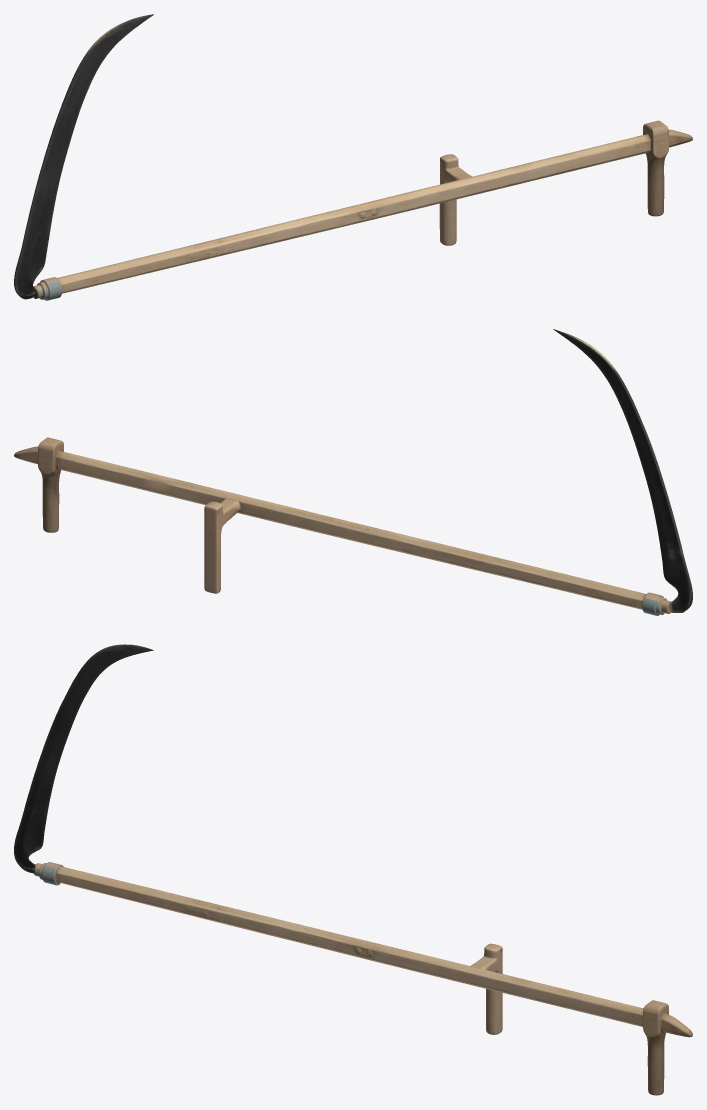
Rendered from kosa-2.glb.
3 views of the same model, one above another, from view 1: azimuth 30°, elevation 25°; view 2: azimuth 150°, elevation 25°; view 3: azimuth 330°, elevation 25° (orthographic).
Size of the model in its own units: 1.9 by 0.8658 by 0.148.
Materials: 1 (1 with a texture image).
